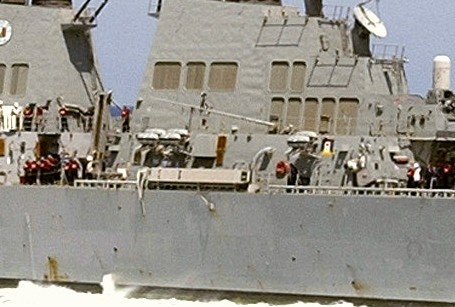rust: (342, 265, 366, 294), (42, 254, 65, 281)
